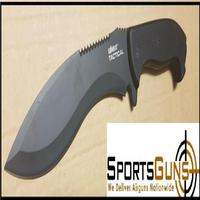knife: (4, 21, 177, 182)
